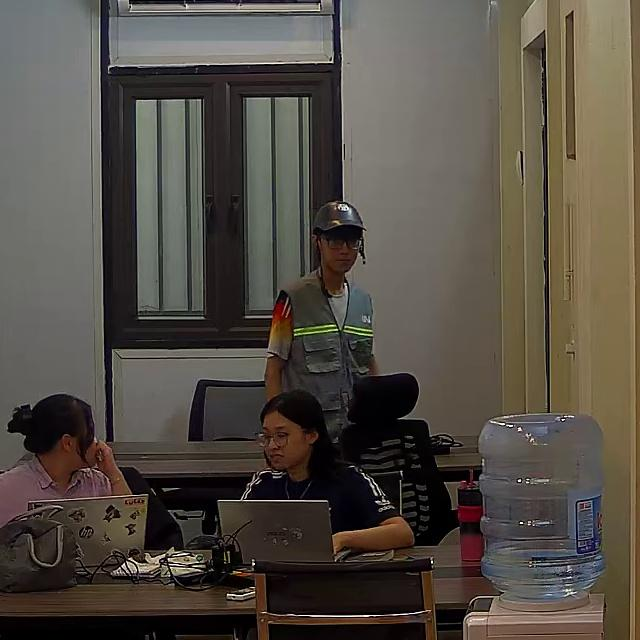helmet: (312, 199, 368, 233)
no_helmet: (260, 390, 337, 479), (9, 393, 95, 456)
none: (277, 270, 377, 419), (239, 460, 403, 542), (0, 455, 111, 543)
